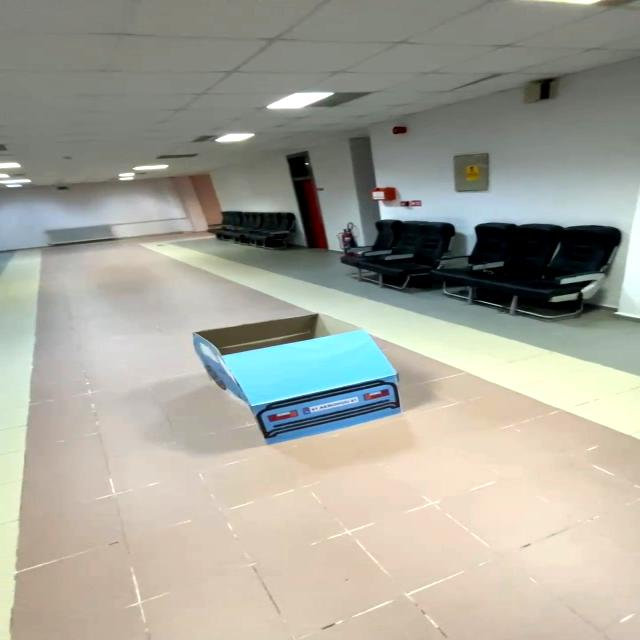blue_car: (171, 300, 424, 467)
